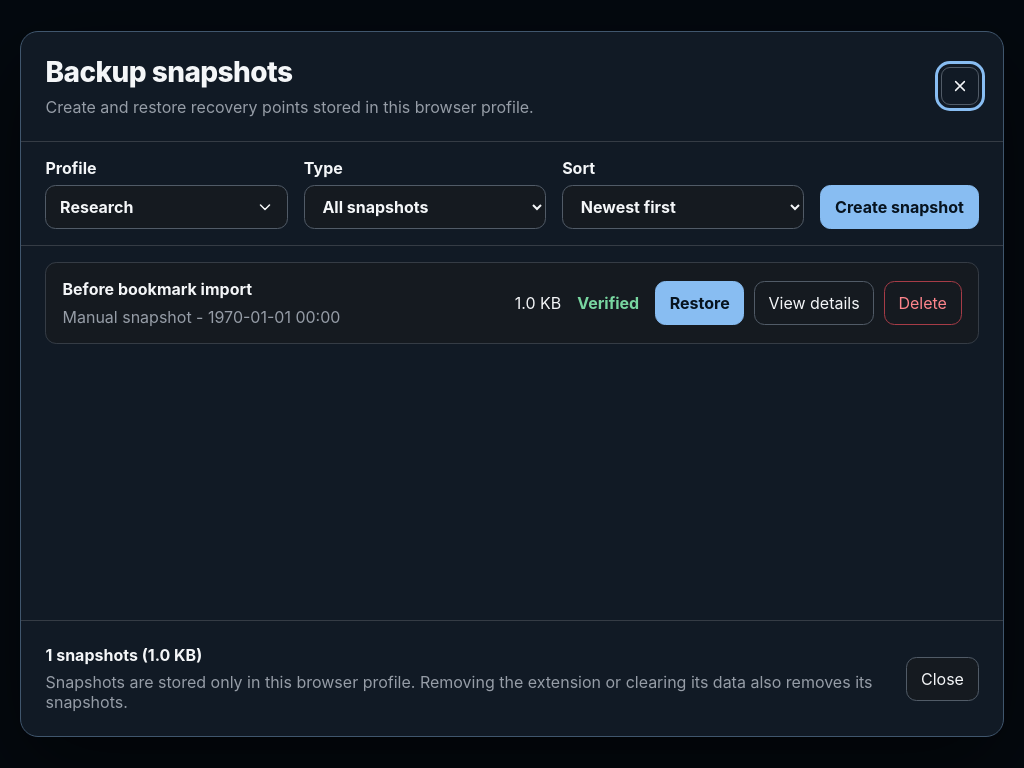
Test case: BackupDialog › presents snapshot details as a row-labeled table
Click the button "View details" at coordinates (814, 303), box [754,281,874,325]
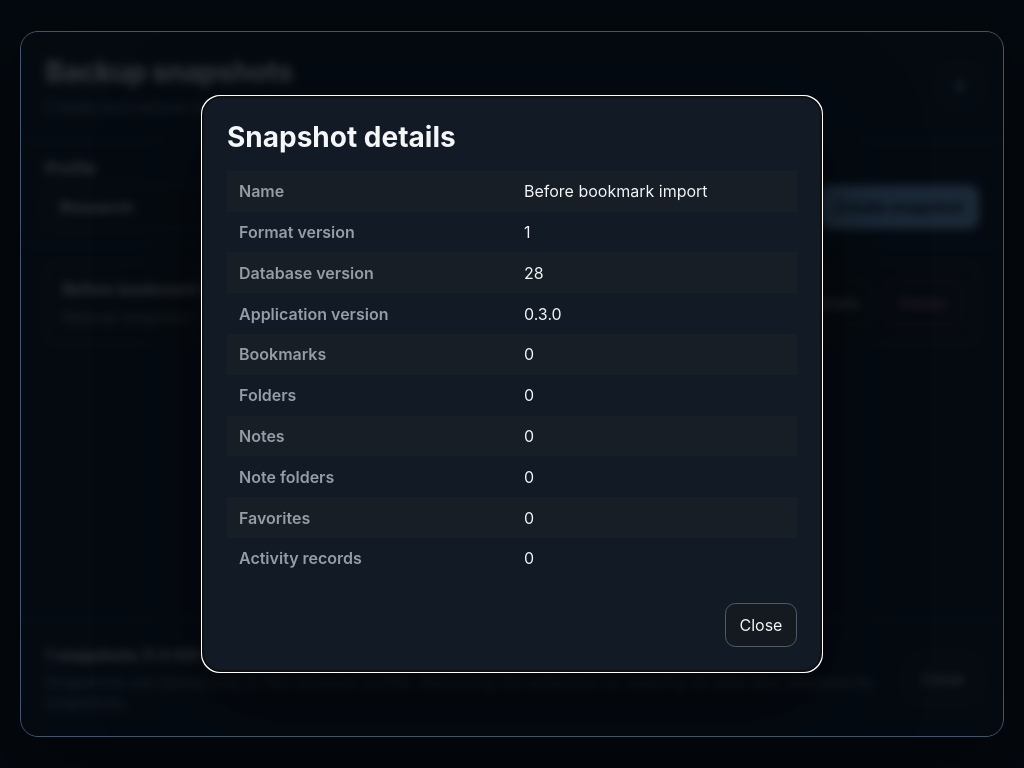
expect the column heading "Name" is shown: met, box [227,171,512,212]
expect the cell "Before bookmark import" is shown: met, box [512,171,797,212]
